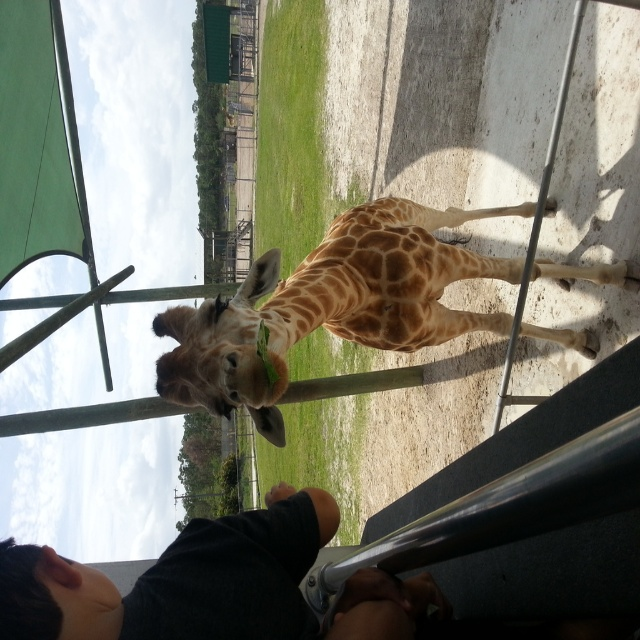Giraffe: (144, 188, 557, 435)
